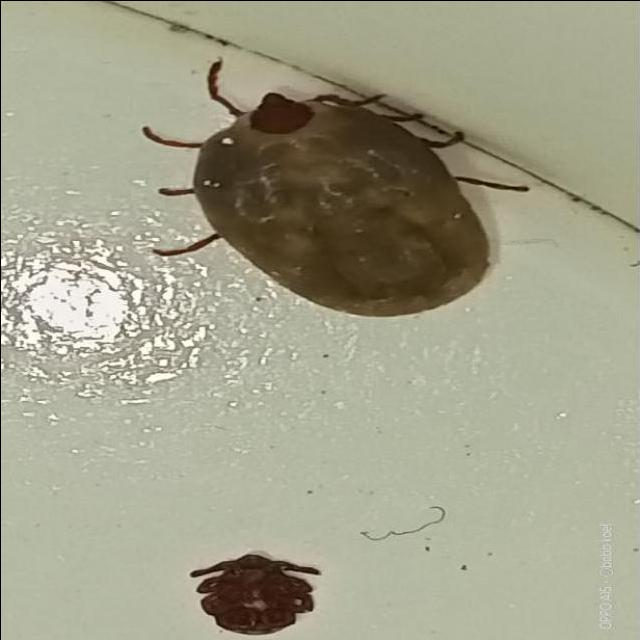Rhipicephalus Sanguineus-F-Fed: (144, 58, 532, 318)
